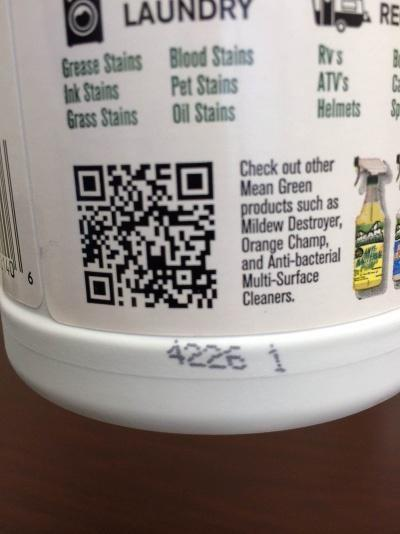Finder pattern: (173, 158, 215, 202), (69, 161, 108, 203), (79, 268, 116, 307)
